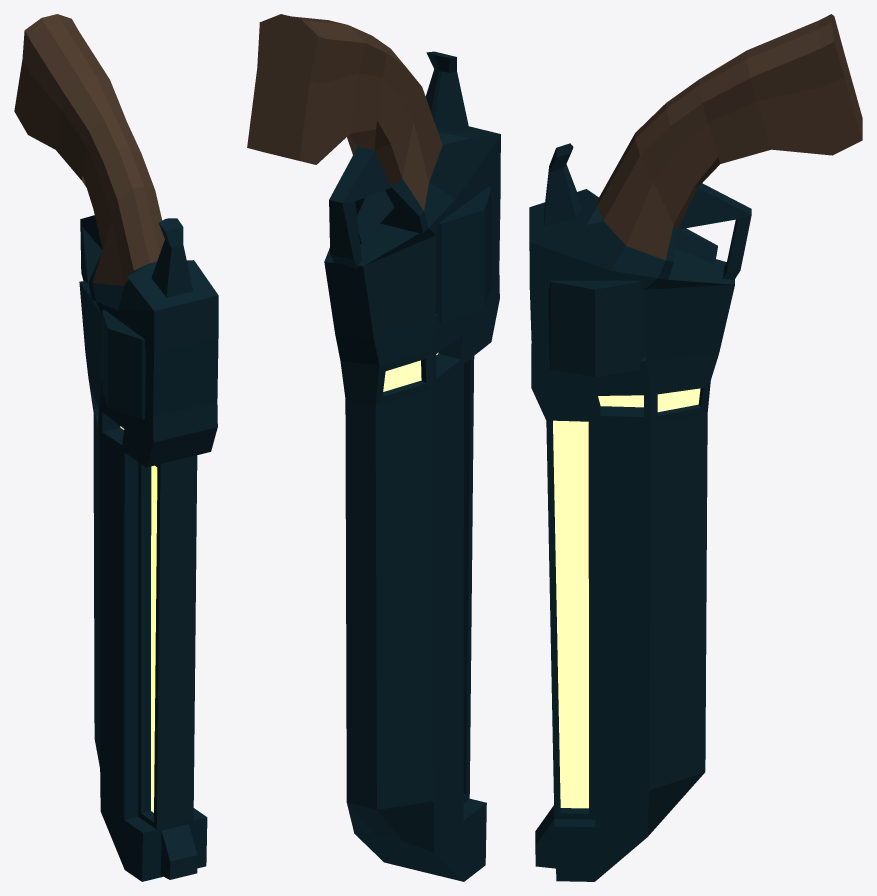
The model's file is revolver.glb.
3 views of the same model, side by side, from view 1: azimuth 30°, elevation 25°; view 2: azimuth 150°, elevation 25°; view 3: azimuth 270°, elevation 25° (orthographic). The views are drawn at different scales.
Visible parts, largest first — view 1: Revolver; view 2: Revolver; view 3: Revolver.
Boxes of the visible parts, x1,y1,x2,y2 form: Revolver: (14, 14, 218, 881); Revolver: (247, 14, 500, 881); Revolver: (529, 14, 862, 881).
Bounding box in the file's own units: 0.0552 × 0.4143 × 0.1478.
